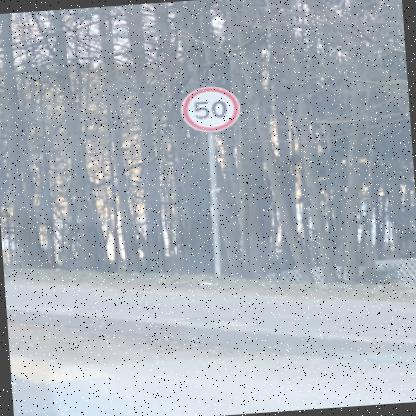speedlimit: (176, 85, 238, 134)
